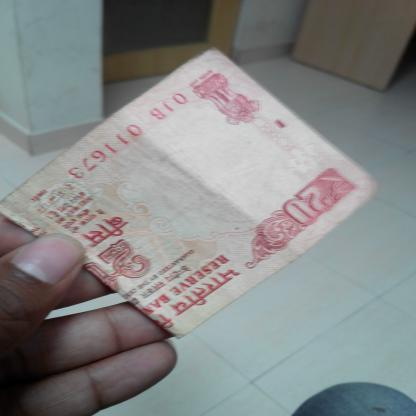Old20Front: (4, 58, 370, 323)
